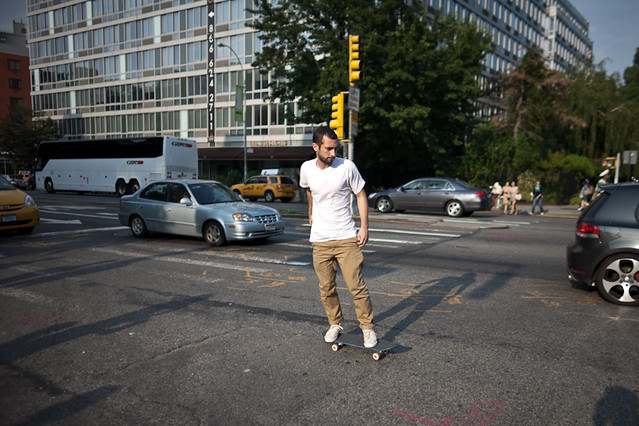bus: (35, 136, 199, 196)
car: (118, 180, 283, 247), (567, 182, 639, 306), (368, 178, 494, 217), (1, 175, 41, 234), (231, 176, 296, 203)
